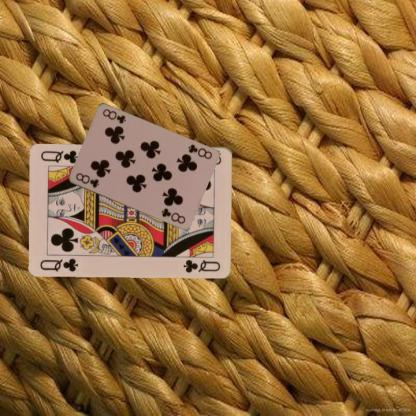8c: (73, 170, 100, 189), (186, 142, 213, 160)
Qc: (38, 255, 80, 273)
